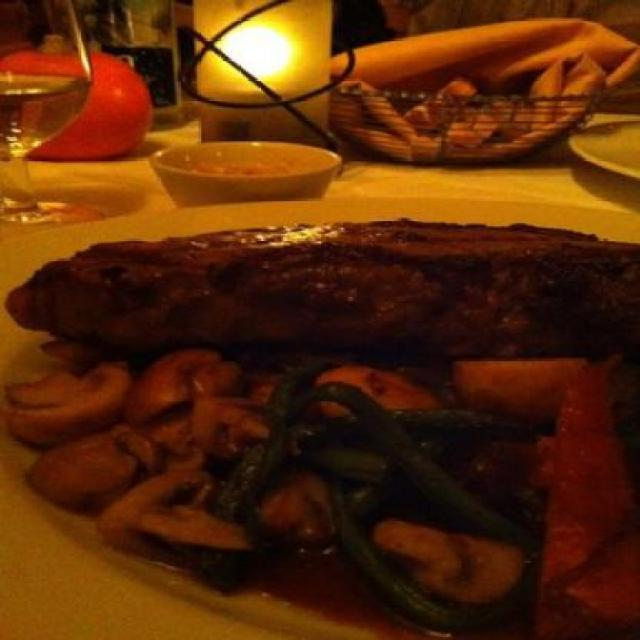Steak: (16, 202, 638, 441)
